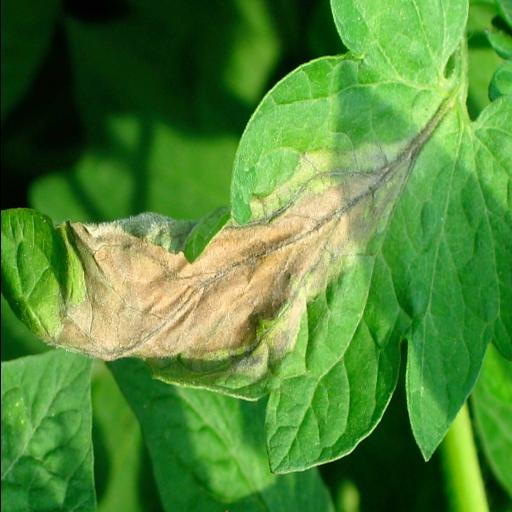disease_tomato: (8, 8, 508, 484)
